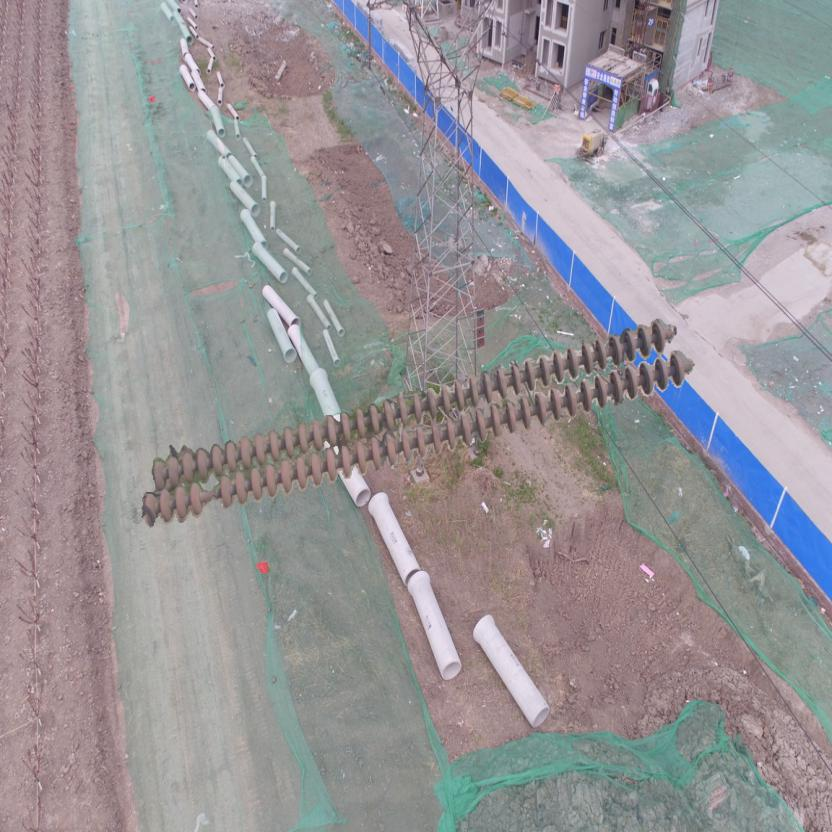defect: (184, 471, 234, 519)
